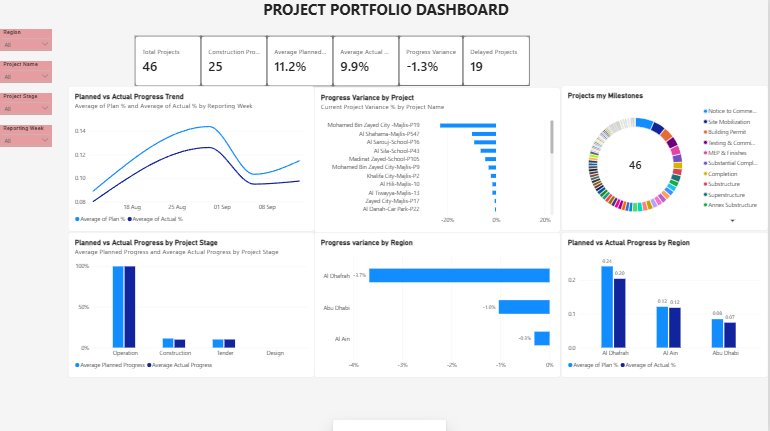

This screenshot's page, from the dashboard's own definition file:
{"tool":"powerbi","page":{"name":"Project dashboard","canvas":[1920,1080],"ordinal":2},"visuals":[{"type":"textbox","box":[10,0,1910,160],"z":0},{"type":"slicer","fields":{"Values":["Projects.Region"]},"box":[0,75.7,130,55],"z":1000},{"type":"slicer","fields":{"Values":["Project updates.Reporting Week"]},"box":[0,314.3,130,55],"z":2000},{"type":"slicer","fields":{"Values":["Projects.Project Stage"]},"box":[0,234.3,130,55],"z":3000},{"type":"slicer","fields":{"Values":["Projects.Project Name"]},"box":[0,154.3,130,55],"z":4000},{"type":"cardVisual","fields":{"Data":["Projects.Total projects"]},"box":[336.3,91.5,165,125],"z":5000},{"type":"cardVisual","title":"Construction","fields":{"Data":["Projects.Construction Projects"]},"box":[501.3,91.5,165,125],"z":6000},{"type":"cardVisual","fields":{"Data":["Project updates.Average Planned Progress"]},"box":[666.3,91.5,165,125],"z":7000},{"type":"cardVisual","fields":{"Data":["Project updates.Average Actual Progress"]},"box":[831.3,91.5,165,125],"z":8000},{"type":"cardVisual","fields":{"Data":["Project updates.Progress Variance"]},"box":[996.3,92,160,124],"z":9000},{"type":"cardVisual","fields":{"Data":["Project updates.Delayed Projects"]},"box":[1156.3,92,166,124],"z":10000},{"type":"lineChart","title":"Planned vs Actual Progress Trend","fields":{"Category":["Project updates.Reporting Week"],"Y":["Avg(Project updates.Plan %)","Avg(Project updates.Actual %)"]},"box":[170,218,616,364],"z":11000},{"type":"clusteredBarChart","title":"Progress Variance by Project","fields":{"Category":["Projects.Project Name"],"Y":["Calendar.Current Project Variance %"]},"box":[786,220,616,364],"z":12000},{"type":"clusteredColumnChart","title":"Planned vs Actual Progress by Project Stage","fields":{"Category":["Projects.Project Stage"],"Y":["Project updates.Average Planned Progress","Project updates.Average Actual Progress"]},"box":[170,582,616,364],"z":13000},{"type":"donutChart","title":"Projects my Milestones","fields":{"Category":["Project updates.Milestones"],"Y":["Count(Projects.Project ID)"]},"box":[1401.7,215,518,364],"z":14000},{"type":"clusteredBarChart","title":"Progress variance by Region","fields":{"Category":["Projects.Region"],"Y":["Calendar.Current Project Variance %"]},"box":[786,582,616,364],"z":15000},{"type":"clusteredColumnChart","title":"Planned vs Actual Progress by Region","fields":{"Category":["Projects.Region"],"Y":["Avg(Project updates.Plan %)","Avg(Project updates.Actual %)"]},"box":[1402,582,518,364],"z":16000}]}

Visuals, with their boxes in screenshot pixels (x1, y1, x2, y2), scaled from the page's 1920x1080 canvas onto the 770x431 screenshot:
textbox: left=4, top=0, right=769, bottom=64
slicer - Projects.Region: left=0, top=30, right=52, bottom=52
slicer - Project updates.Reporting Week: left=0, top=125, right=52, bottom=147
slicer - Projects.Project Stage: left=0, top=94, right=52, bottom=115
slicer - Projects.Project Name: left=0, top=62, right=52, bottom=84
cardVisual - Projects.Total projects: left=135, top=37, right=201, bottom=86
"Construction" cardVisual: left=201, top=37, right=267, bottom=86
cardVisual - Project updates.Average Planned Progress: left=267, top=37, right=333, bottom=86
cardVisual - Project updates.Average Actual Progress: left=333, top=37, right=400, bottom=86
cardVisual - Project updates.Progress Variance: left=400, top=37, right=464, bottom=86
cardVisual - Project updates.Delayed Projects: left=464, top=37, right=530, bottom=86
"Planned vs Actual Progress Trend" lineChart: left=68, top=87, right=315, bottom=232
"Progress Variance by Project" clusteredBarChart: left=315, top=88, right=562, bottom=233
"Planned vs Actual Progress by Project Stage" clusteredColumnChart: left=68, top=232, right=315, bottom=378
"Projects my Milestones" donutChart: left=562, top=86, right=769, bottom=231
"Progress variance by Region" clusteredBarChart: left=315, top=232, right=562, bottom=378
"Planned vs Actual Progress by Region" clusteredColumnChart: left=562, top=232, right=769, bottom=378
